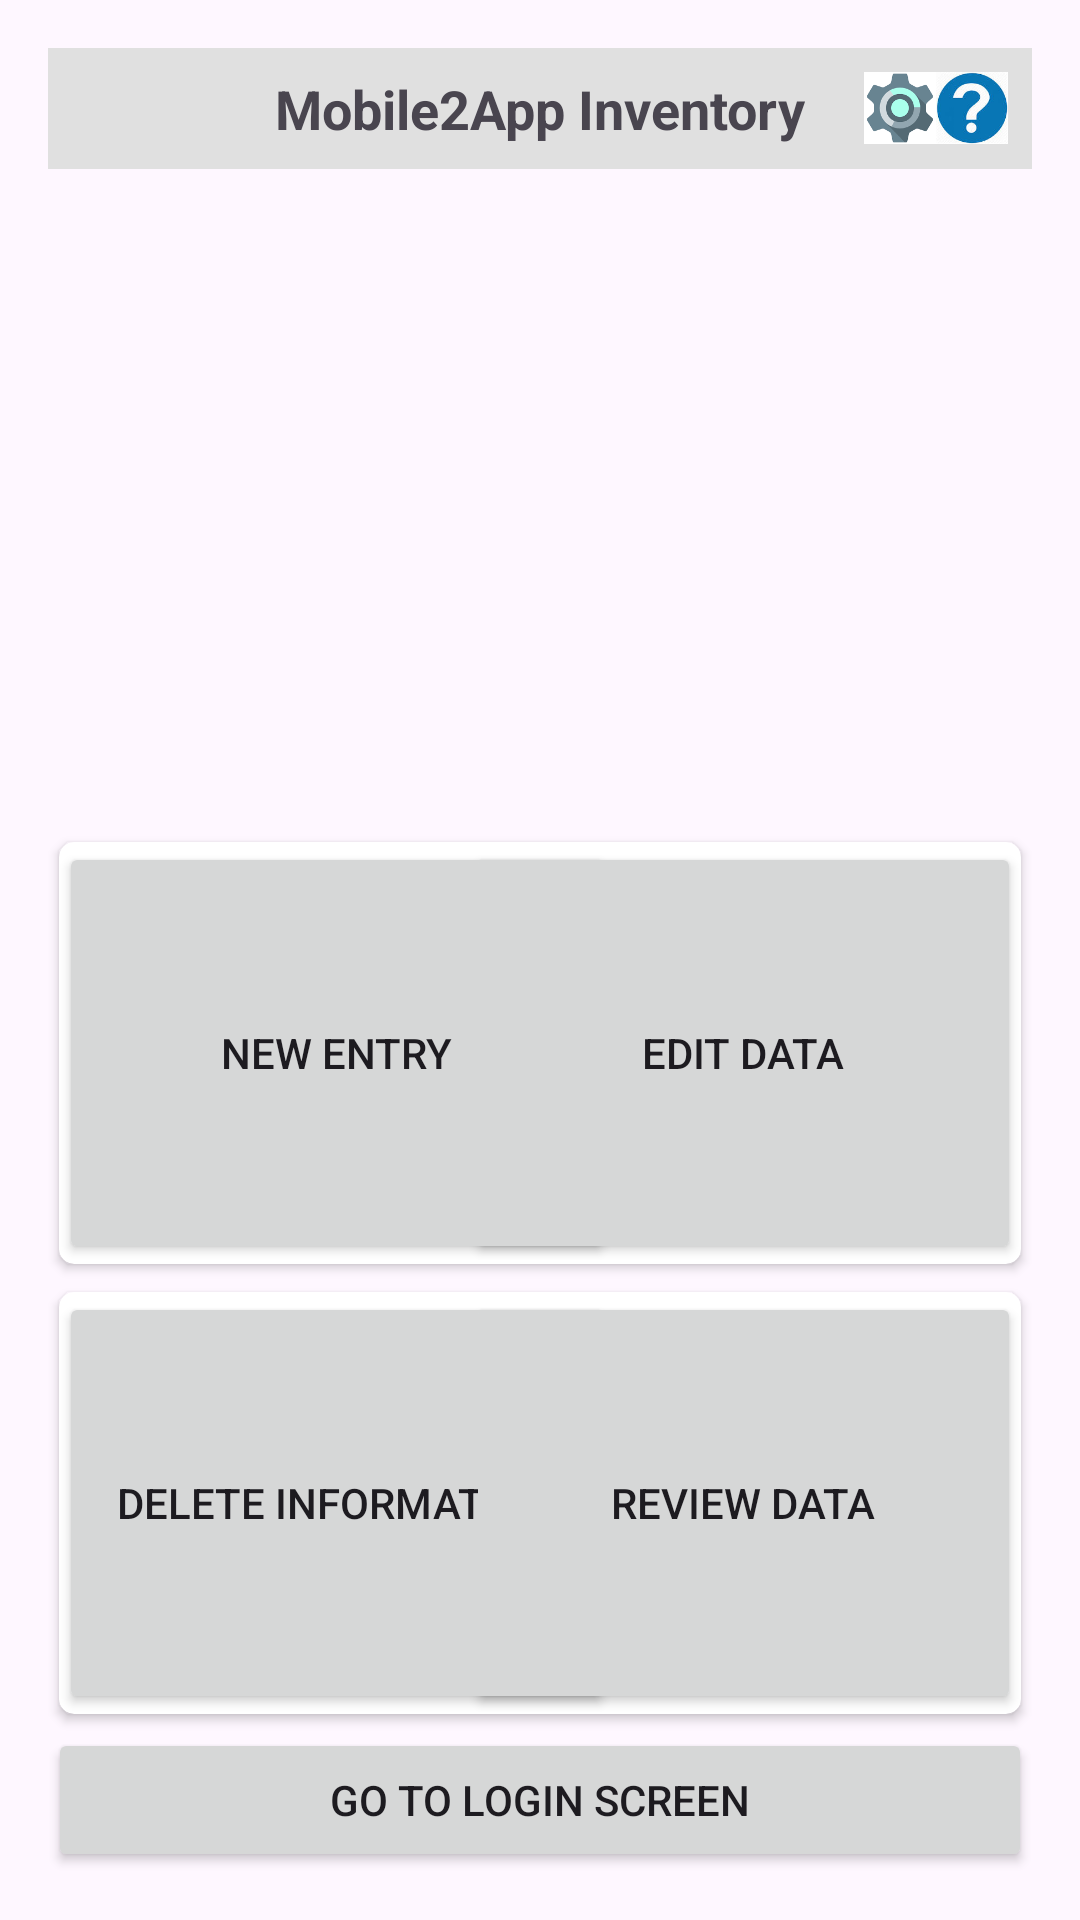

Named icons in this screenshot (1080*1920) and their bounding boxes, [x1,y1,x2,y2]:
help: [936,72,1008,144]
settings: [864,72,936,144]
